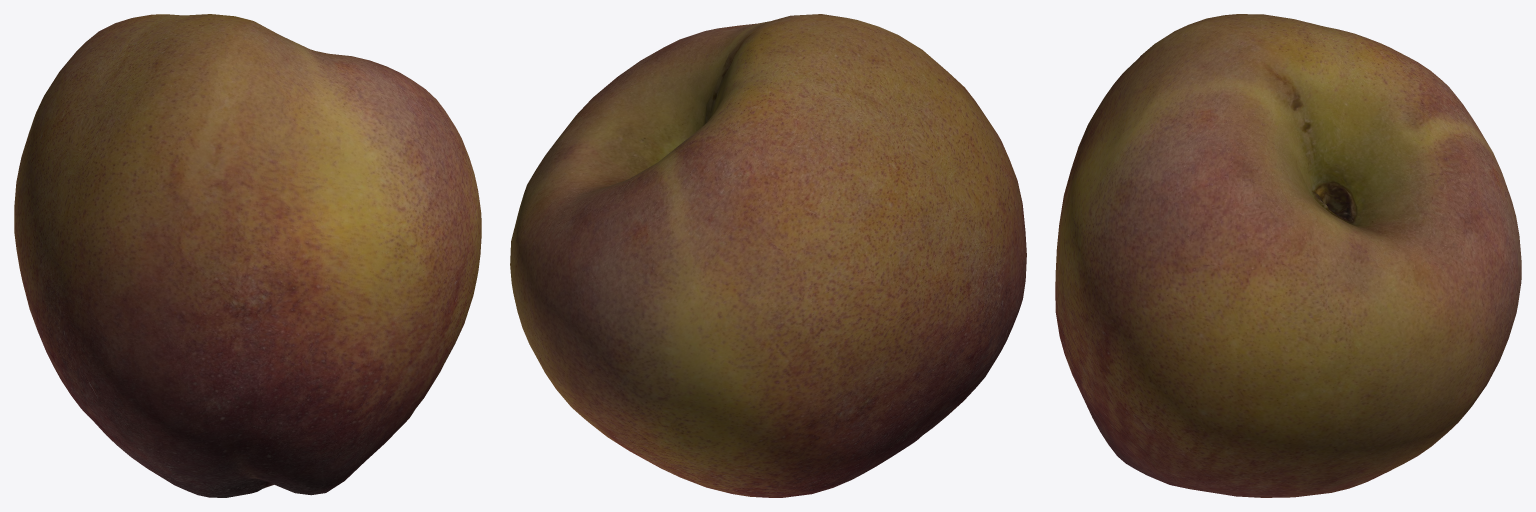
File: Peach.glb
3 renders of one model, left to right at view 1: azimuth 30°, elevation 25°; view 2: azimuth 150°, elevation 25°; view 3: azimuth 270°, elevation 25°, orthographic. The views are drawn at different scales.
Parts seen in each view (by area): view 1: node_Peach_-265386; view 2: node_Peach_-265386; view 3: node_Peach_-265386.
Boxes of the visible parts, bbox=[...] form: node_Peach_-265386: bbox=[14, 14, 481, 497]; node_Peach_-265386: bbox=[510, 14, 1026, 497]; node_Peach_-265386: bbox=[1055, 14, 1521, 497].
Bounding box in the file's own units: 0.0358 × 0.0362 × 0.0348.
1 material, 1 textured.
